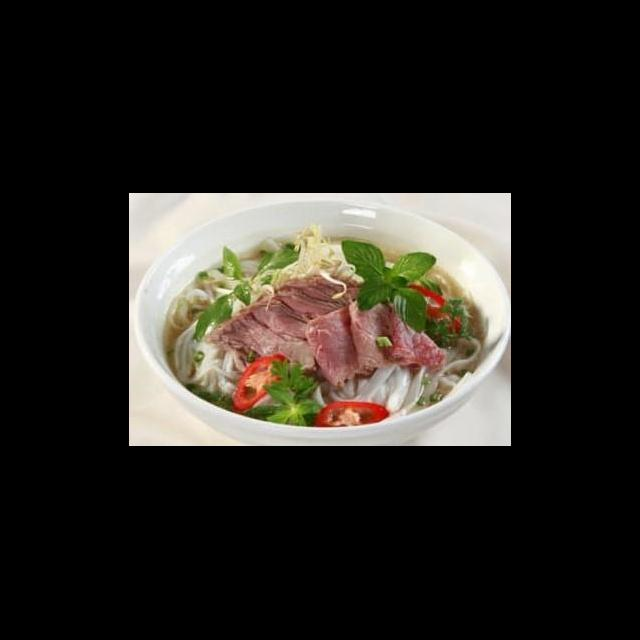banh pho: (310, 356, 472, 422), (169, 313, 241, 392)
pho bo: (141, 222, 511, 446)
thit bo: (198, 268, 366, 374), (300, 300, 449, 388)
